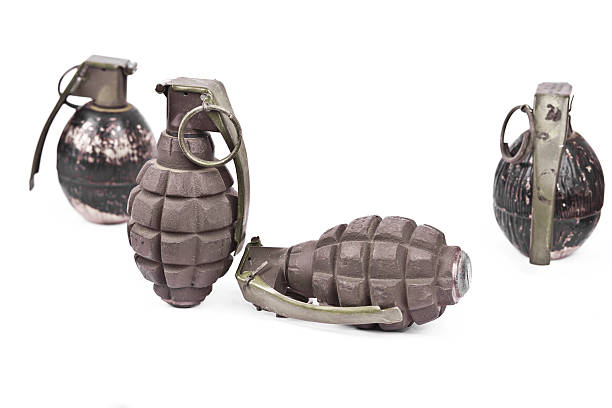e1: (130, 75, 247, 308), (234, 217, 473, 331), (489, 81, 602, 265), (30, 54, 147, 227)
